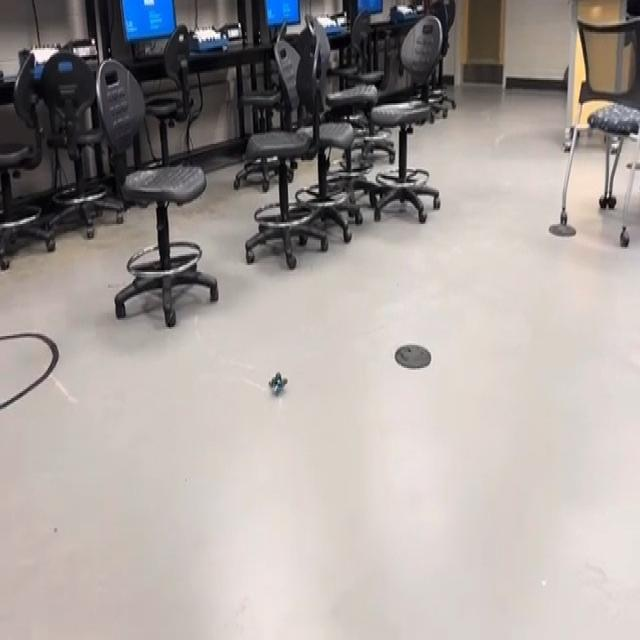drone: (262, 360, 296, 406)
